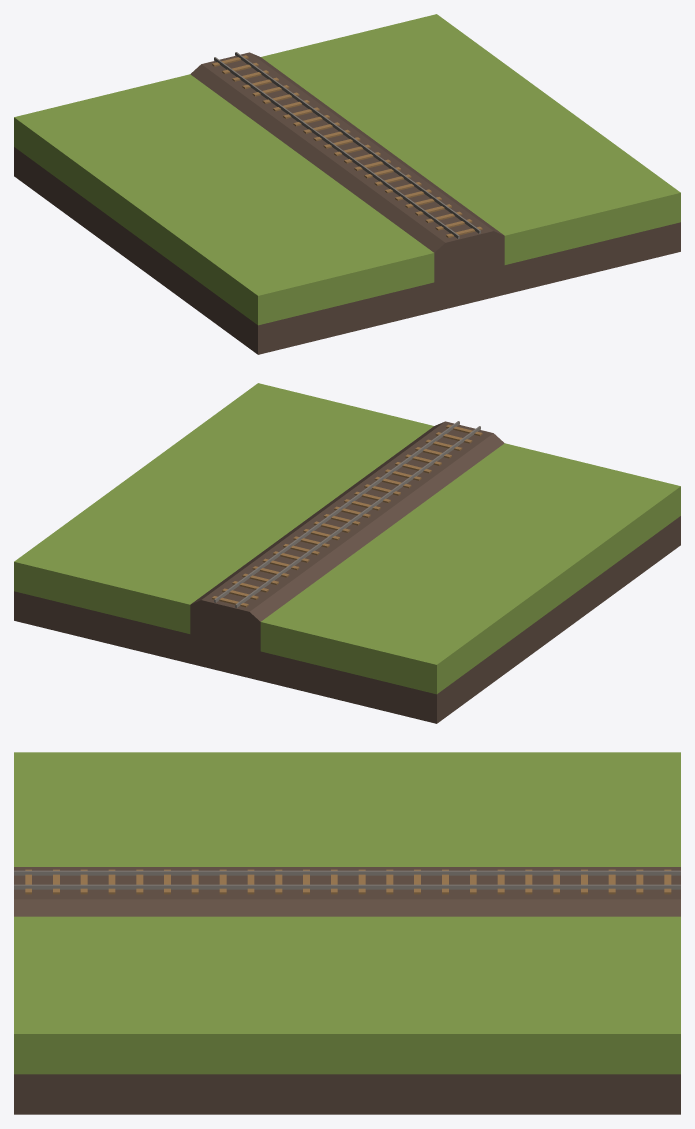
File: rail-tile-straight_01.fbx
3 views of the same model, one above another, from view 1: azimuth 30°, elevation 25°; view 2: azimuth 150°, elevation 25°; view 3: azimuth 270°, elevation 25° (orthographic). The views are drawn at different scales.
Parts seen in each view (by area): view 1: rail-tile-straight_01; view 2: rail-tile-straight_01; view 3: rail-tile-straight_01.
Part boxes in pixels (x1,y1,x2,y2): rail-tile-straight_01: (14, 14, 680, 354); rail-tile-straight_01: (14, 383, 680, 723); rail-tile-straight_01: (14, 752, 680, 1114).
Size of the model in its own units: 3000 by 475 by 3000.
